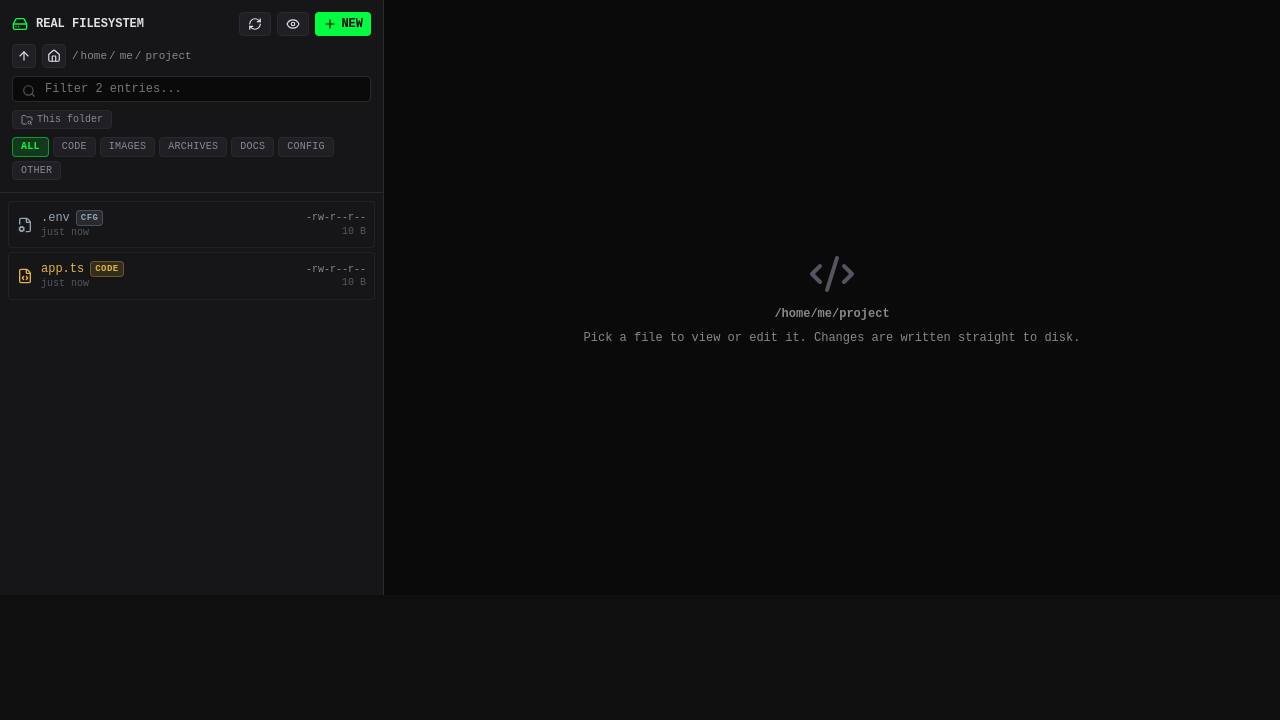
Test: dotfiles toggle › hides and shows .name files, and remembers the choice
The width and height of the screenshot is (1280, 720).
Expected: the text "app.ts" is shown, [41, 261, 84, 277]
Expected: the text ".env" is shown, [41, 210, 70, 226]
Click the button named "Hide dotfiles". click: click(293, 24)
box: [277, 12, 309, 36]
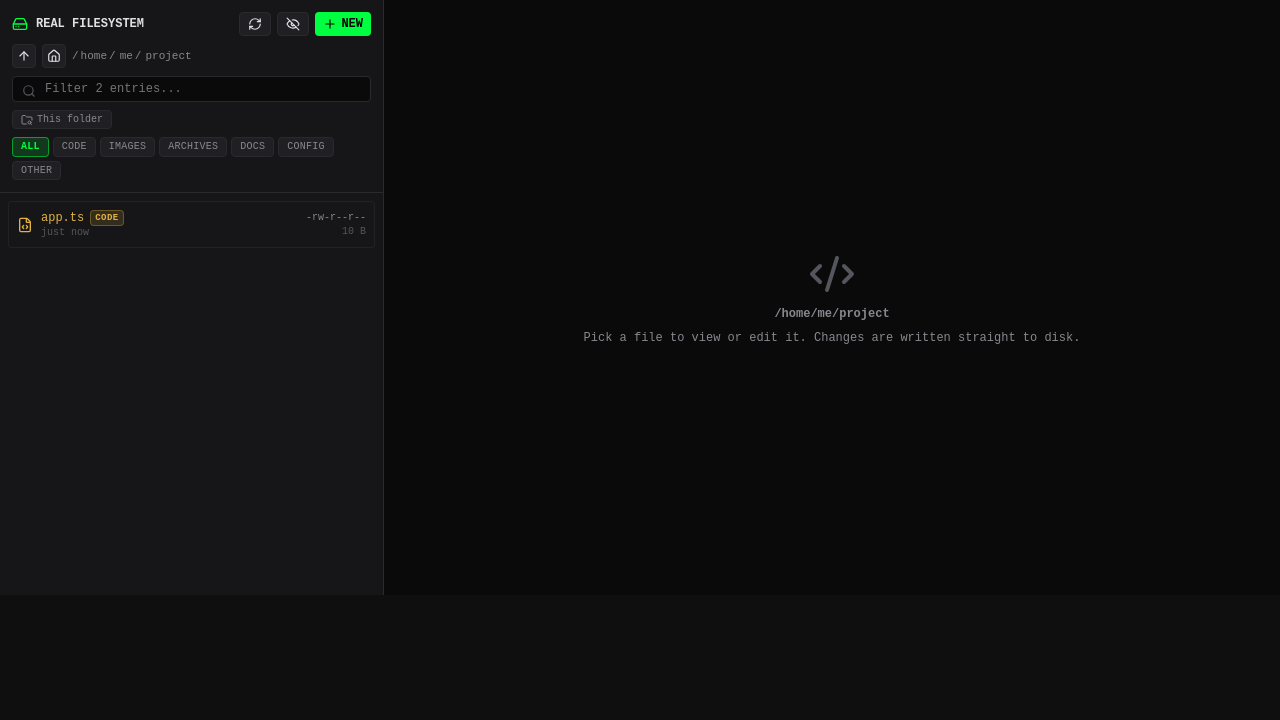
Expected: the text "app.ts" is shown, [41, 210, 84, 226]
Result: the button ".env" is gone
Click the button named "Show dotfiles". click: click(293, 24)
box: [277, 12, 309, 36]
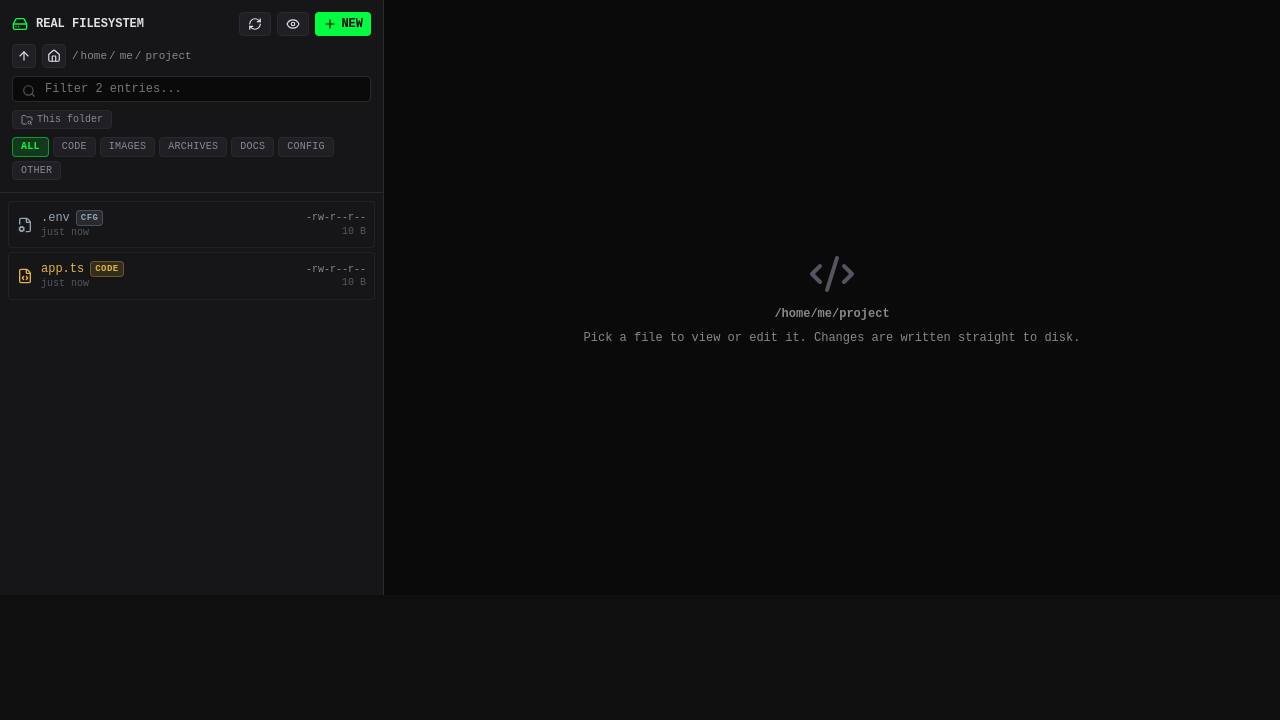
Result: the text ".env" is shown at [41, 210, 70, 226]
